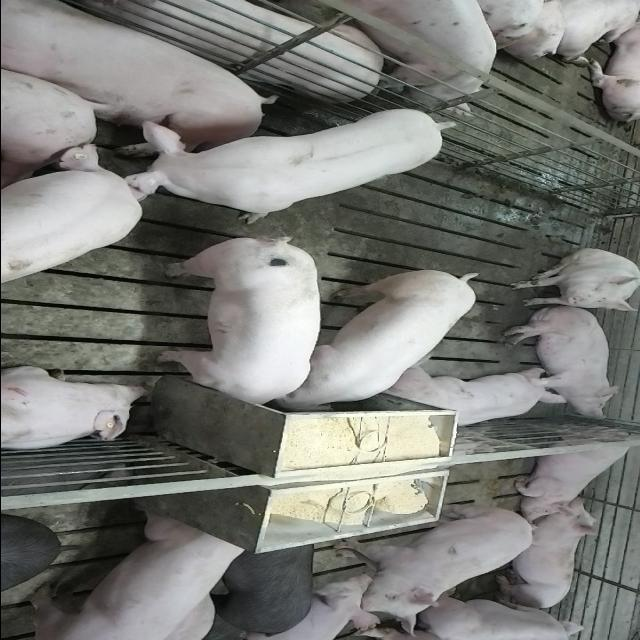Feeding: (276, 264, 479, 412), (156, 242, 322, 416)
Lateral_lying: (0, 4, 273, 162), (498, 304, 622, 418)
Sitting: (508, 424, 640, 516), (506, 248, 638, 312)
Standing: (107, 106, 451, 223), (18, 512, 250, 638), (322, 506, 537, 626), (290, 0, 503, 107), (0, 140, 144, 282), (200, 542, 320, 637), (412, 597, 594, 640)
Sternal_lying: (0, 366, 149, 453), (382, 366, 571, 431), (489, 502, 602, 610)
